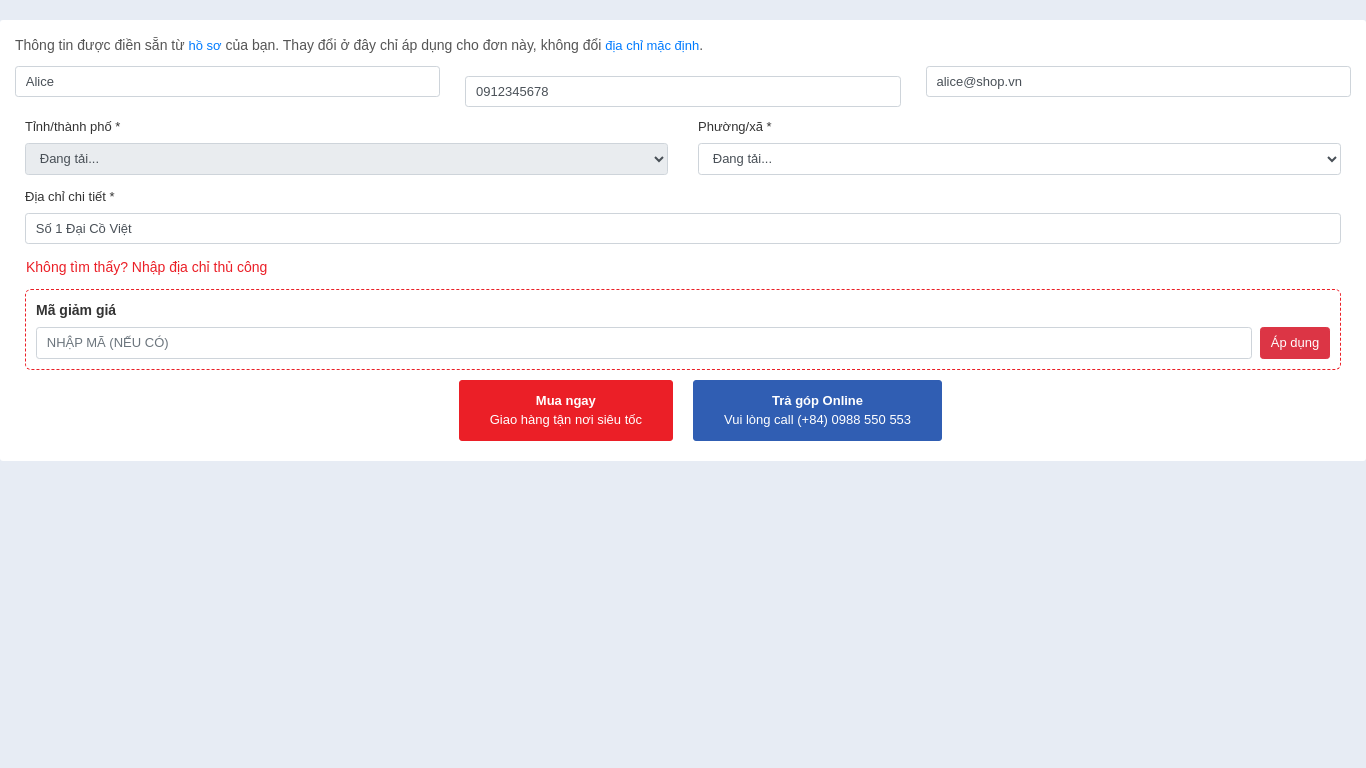
Test: thành viên có token đã hết hạn: không âm thầm đặt thành đơn khách, đăng xuất và báo rõ
Expected: the 2nd field named "Số điện thoại (bắt buộc)" holds "0912345678", [465, 76, 901, 107]
Click the button "Mua ngay Giao hàng tận nơi siêu tốc".
click(566, 410)  # box [459, 380, 673, 440]
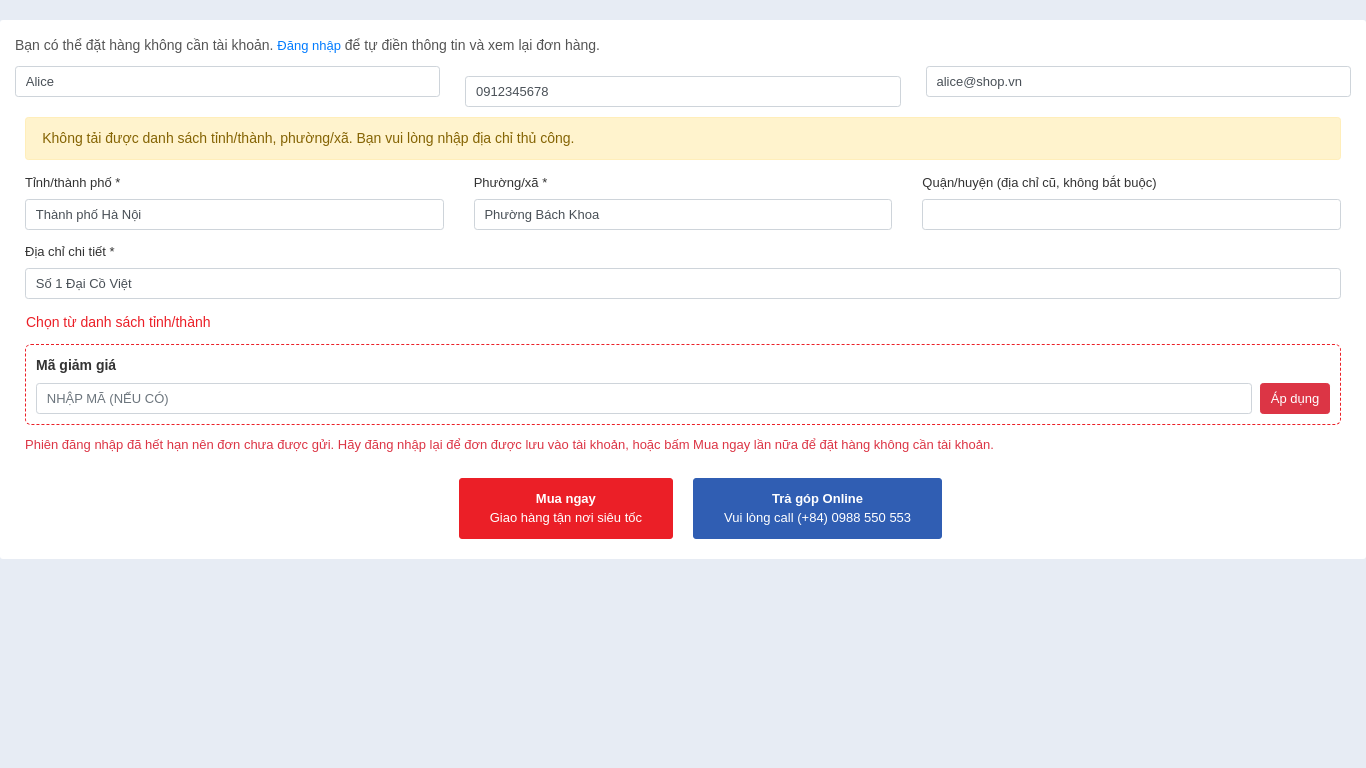
Expected: the 2nd message shows "Phiên đăng nhập đã hết hạn", [25, 437, 994, 452]
